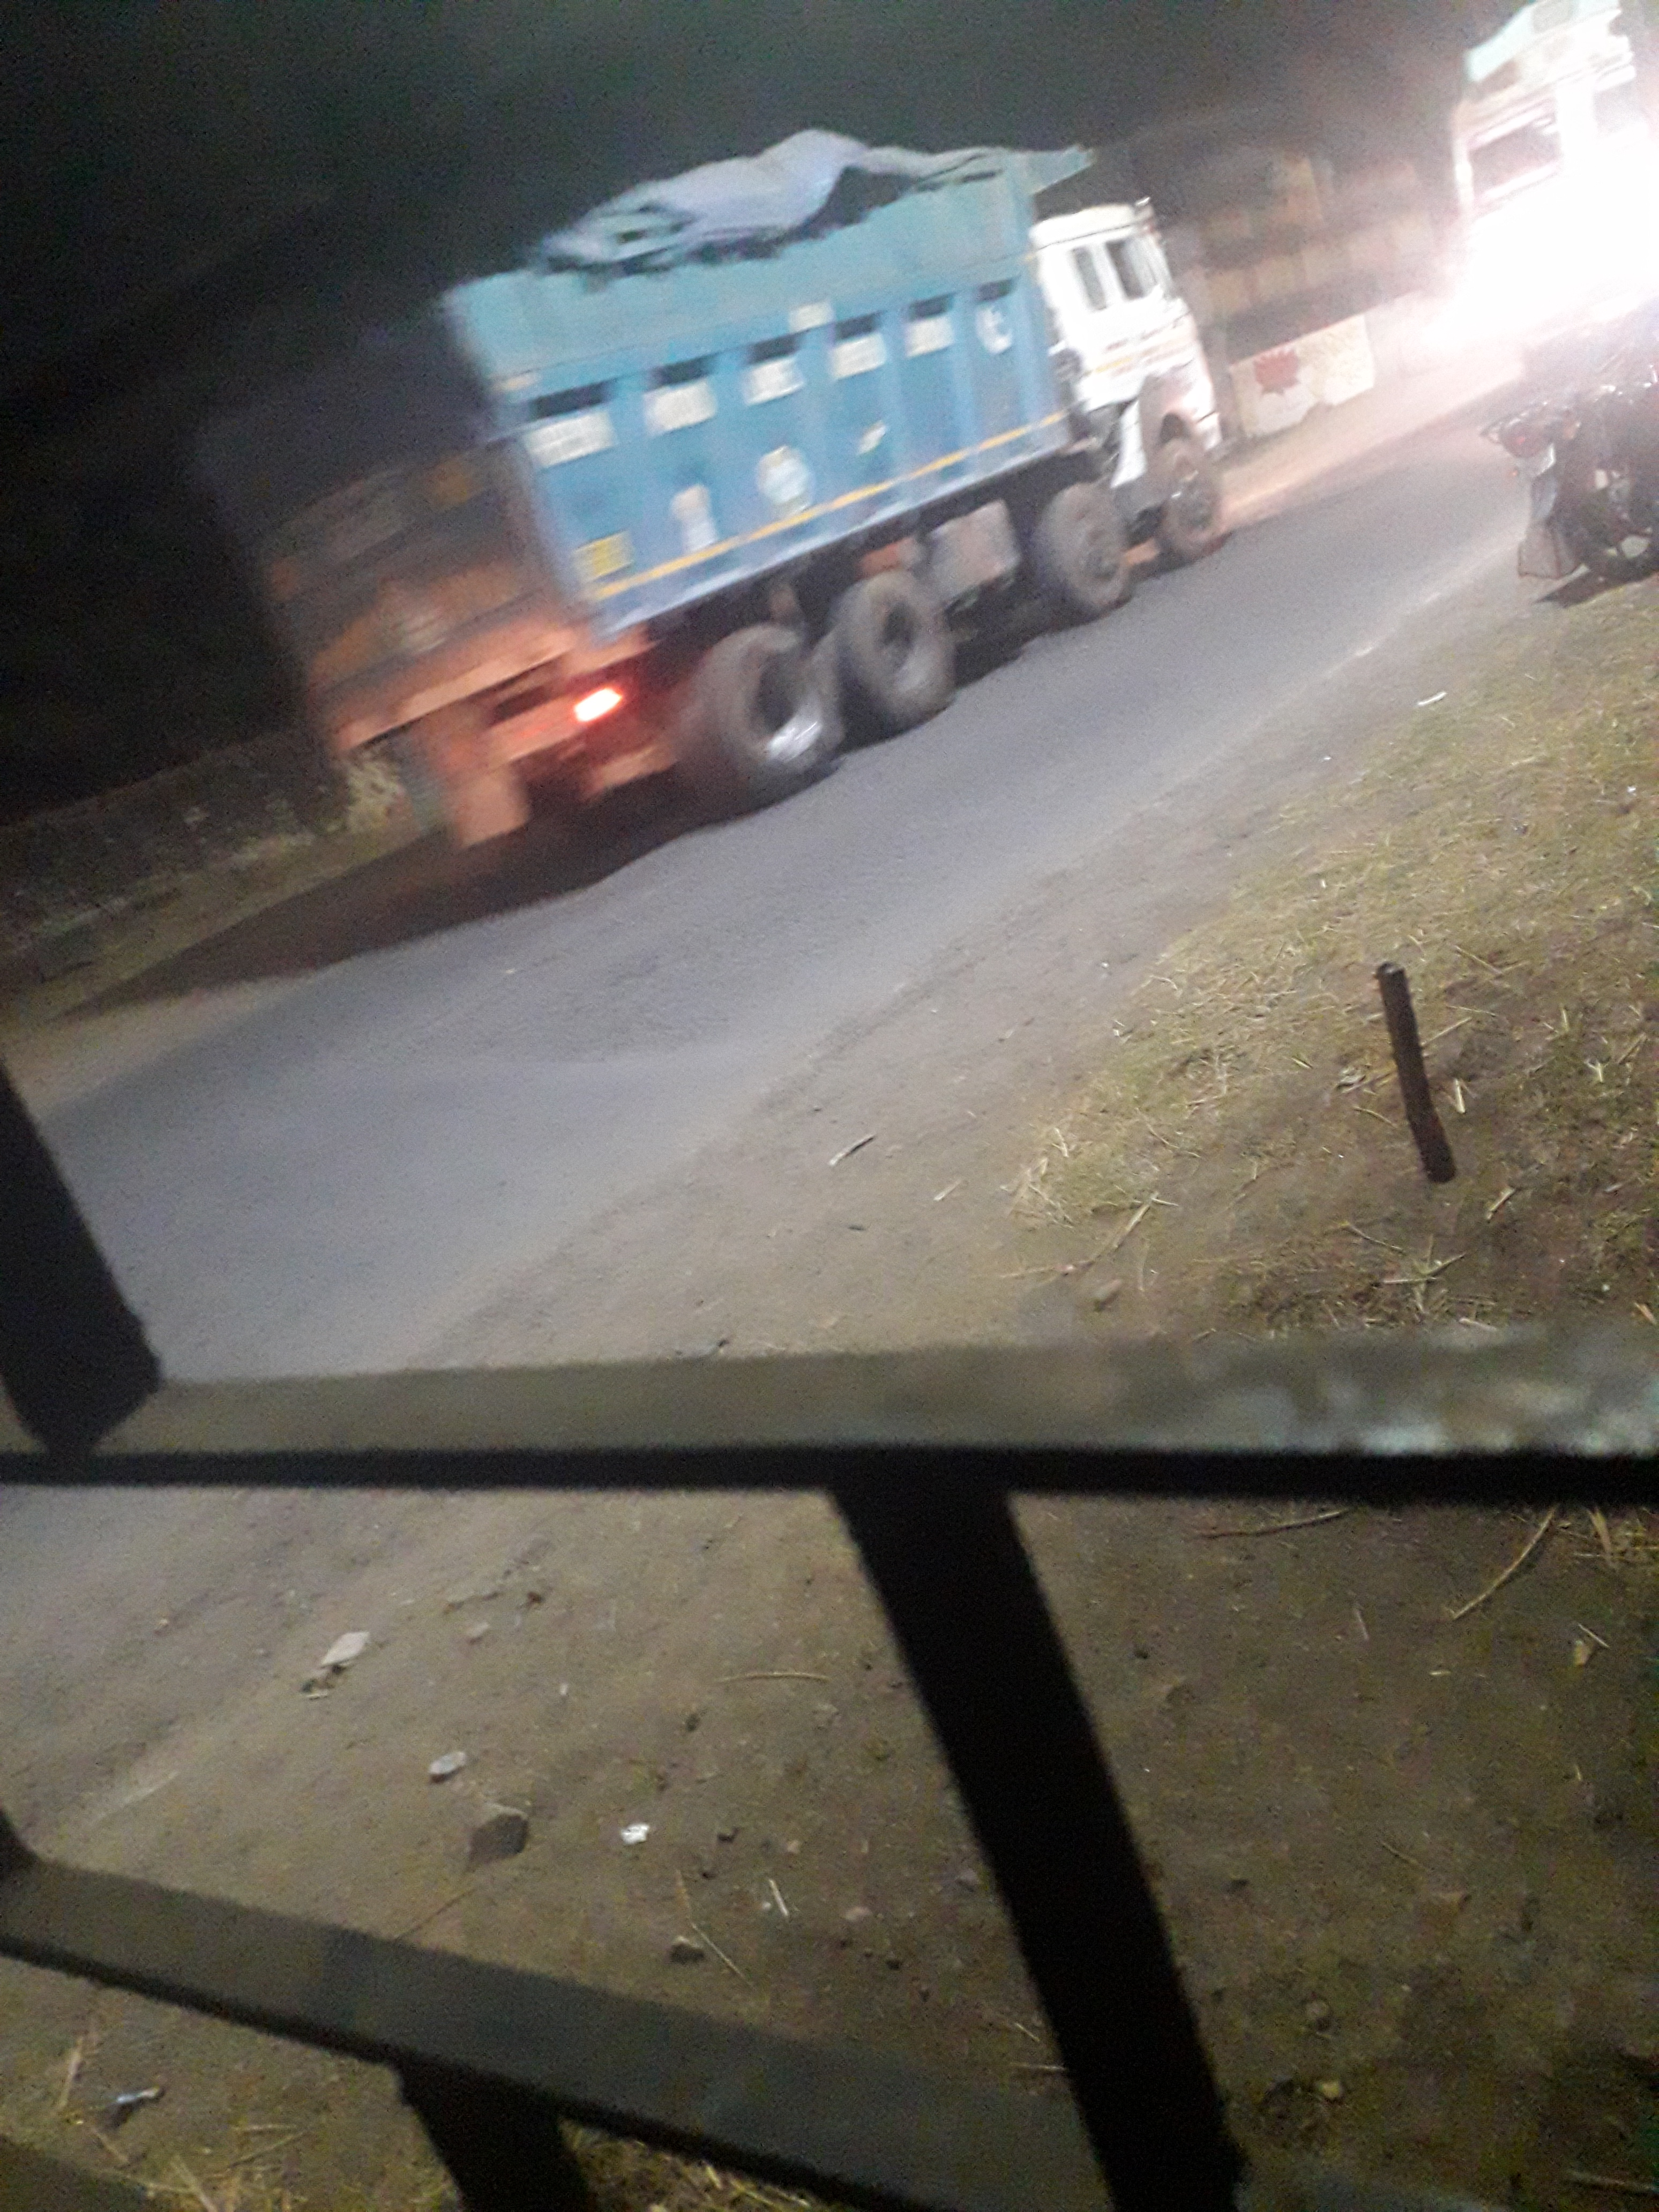truck: (188, 124, 1236, 855), (1445, 0, 1659, 333)
